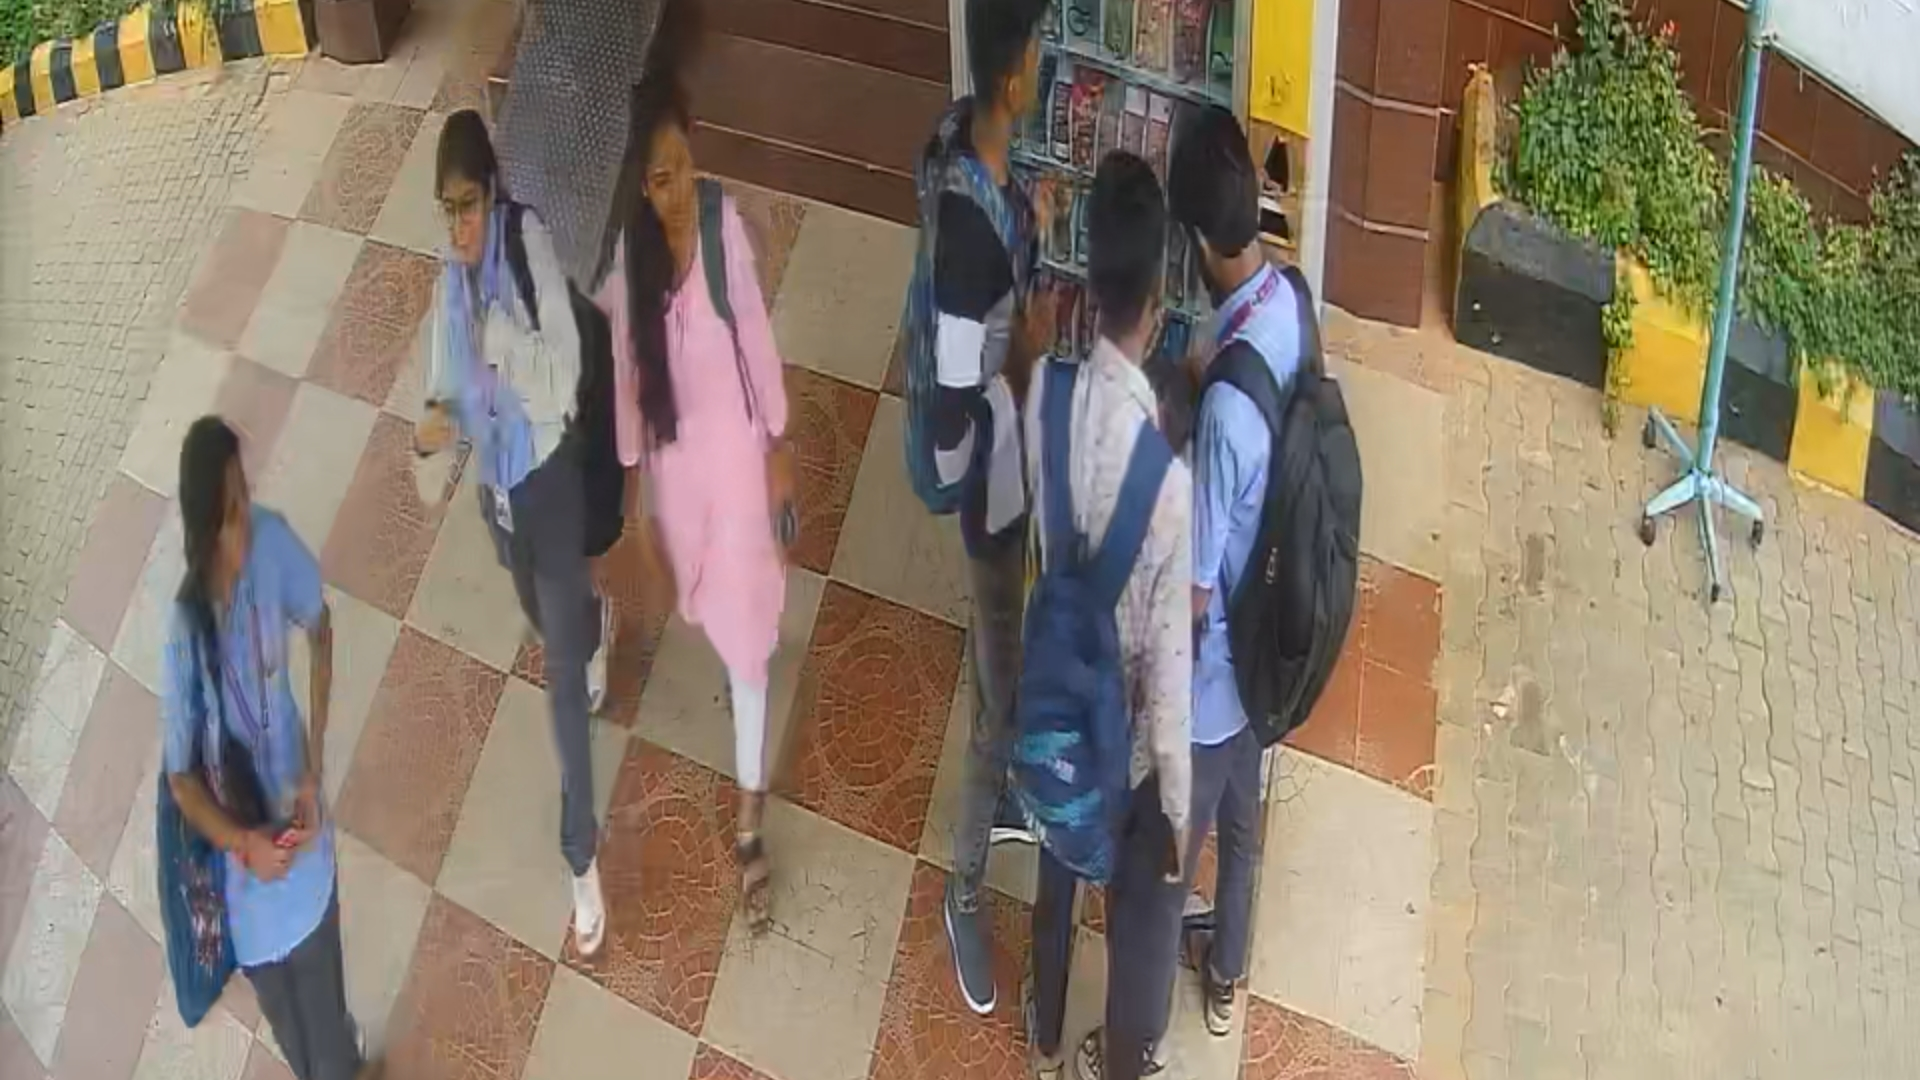intruder: (382, 112, 629, 949), (607, 69, 783, 914)
not intruder: (154, 425, 363, 1080)
